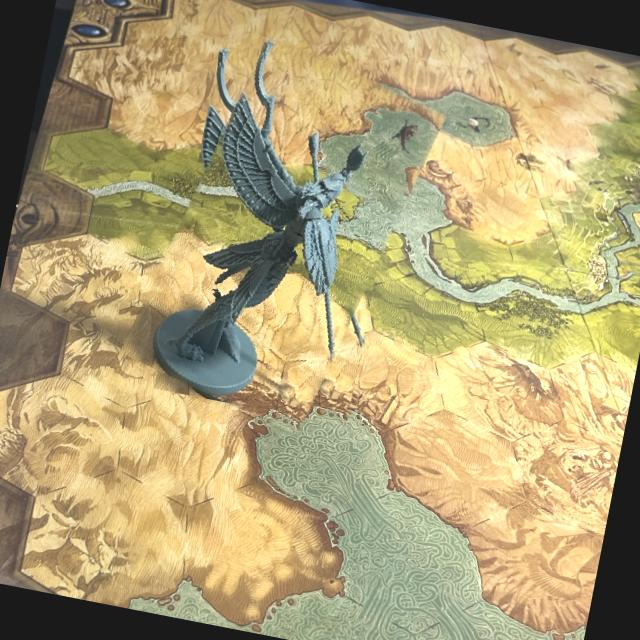isis: (133, 29, 434, 438)
